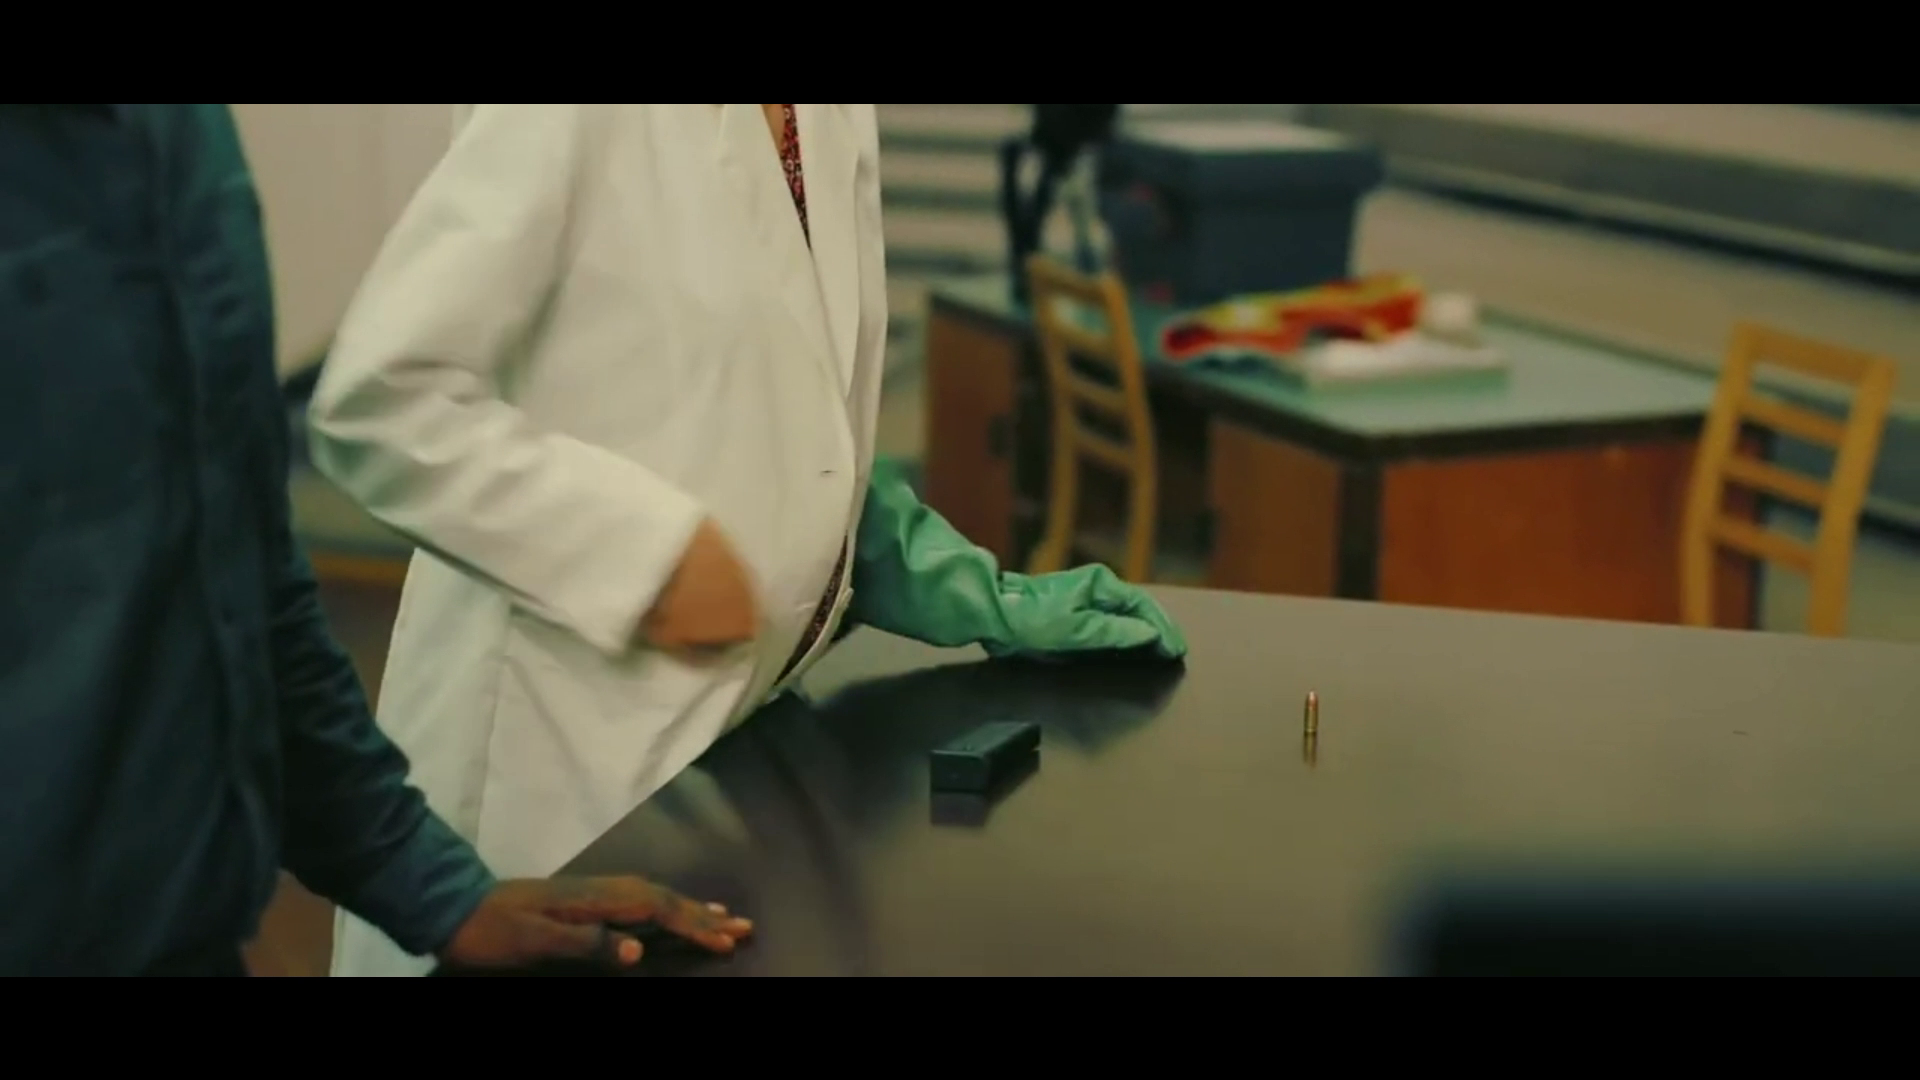Bullet: (1299, 687, 1320, 736)
